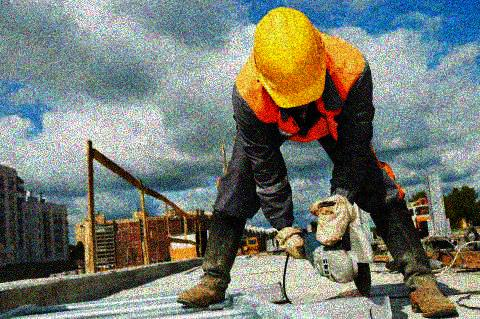helmet: (251, 6, 328, 111)
